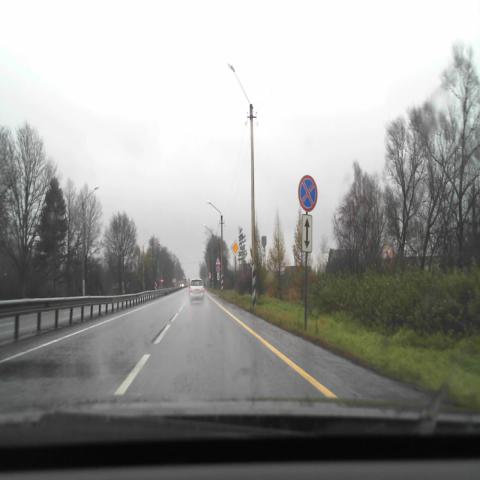8_2_4: (302, 214, 312, 252)
